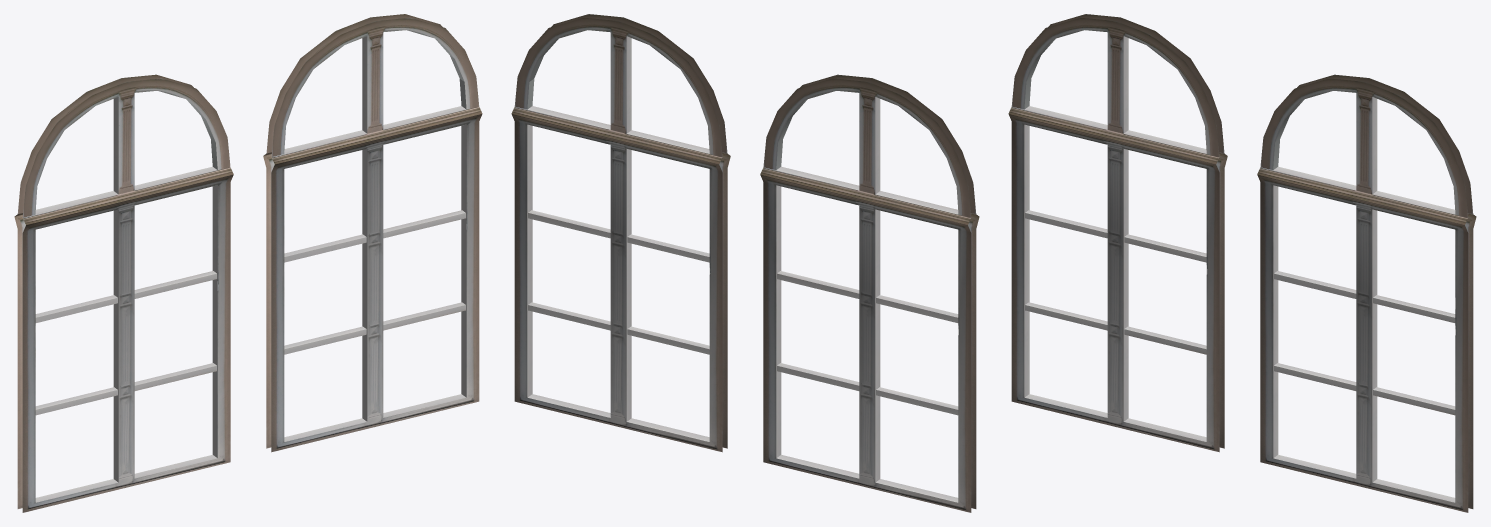
Rendered from WindowRounded2A.fbx.
3 renders of one model, left to right at view 1: azimuth 30°, elevation 25°; view 2: azimuth 150°, elevation 25°; view 3: azimuth 330°, elevation 25°, orthographic.
Visible parts, largest first — view 1: WindowRounded2A; view 2: WindowRounded2A; view 3: WindowRounded2A.
Part boxes in pixels (box(x1,y1,x2,y2)): WindowRounded2A: box(14, 14, 482, 512); WindowRounded2A: box(511, 14, 979, 512); WindowRounded2A: box(1008, 14, 1476, 512).
Size of the model in its own units: 308 by 261 by 13.57.
